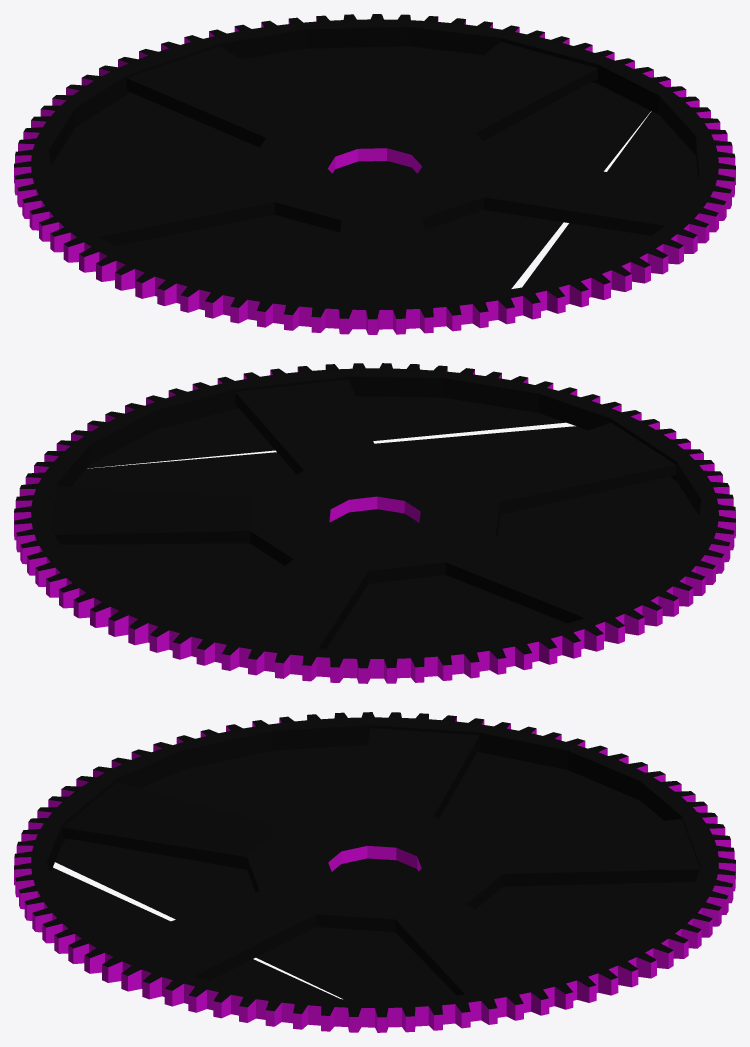
Rendered from D8GearV2.fbx.
3 views of the same model, one above another, from view 1: azimuth 30°, elevation 25°; view 2: azimuth 150°, elevation 25°; view 3: azimuth 270°, elevation 25° (orthographic).
Visible parts, largest first — view 1: D8GearV2; view 2: D8GearV2; view 3: D8GearV2.
Boxes of the visible parts, bbox=[...] form: D8GearV2: bbox=[14, 14, 735, 334]; D8GearV2: bbox=[14, 363, 735, 683]; D8GearV2: bbox=[14, 712, 735, 1032].
Bounding box in the file's own units: 16.8 × 0.5 × 16.8.
